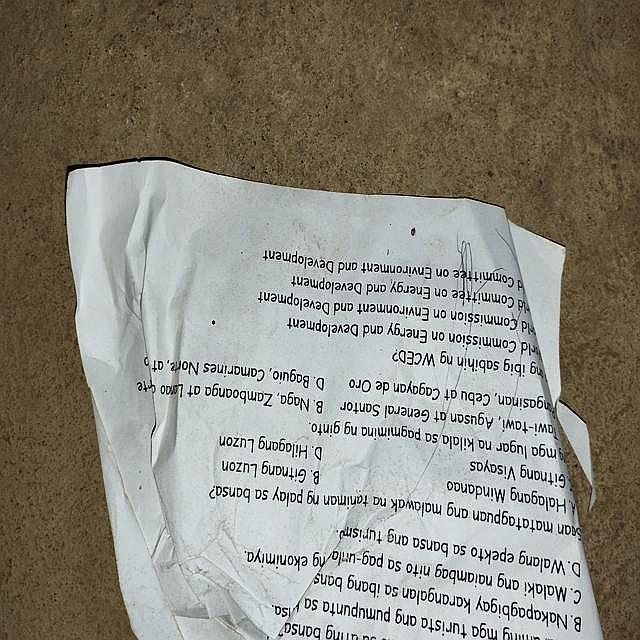Biodegradable: (63, 163, 599, 639)
